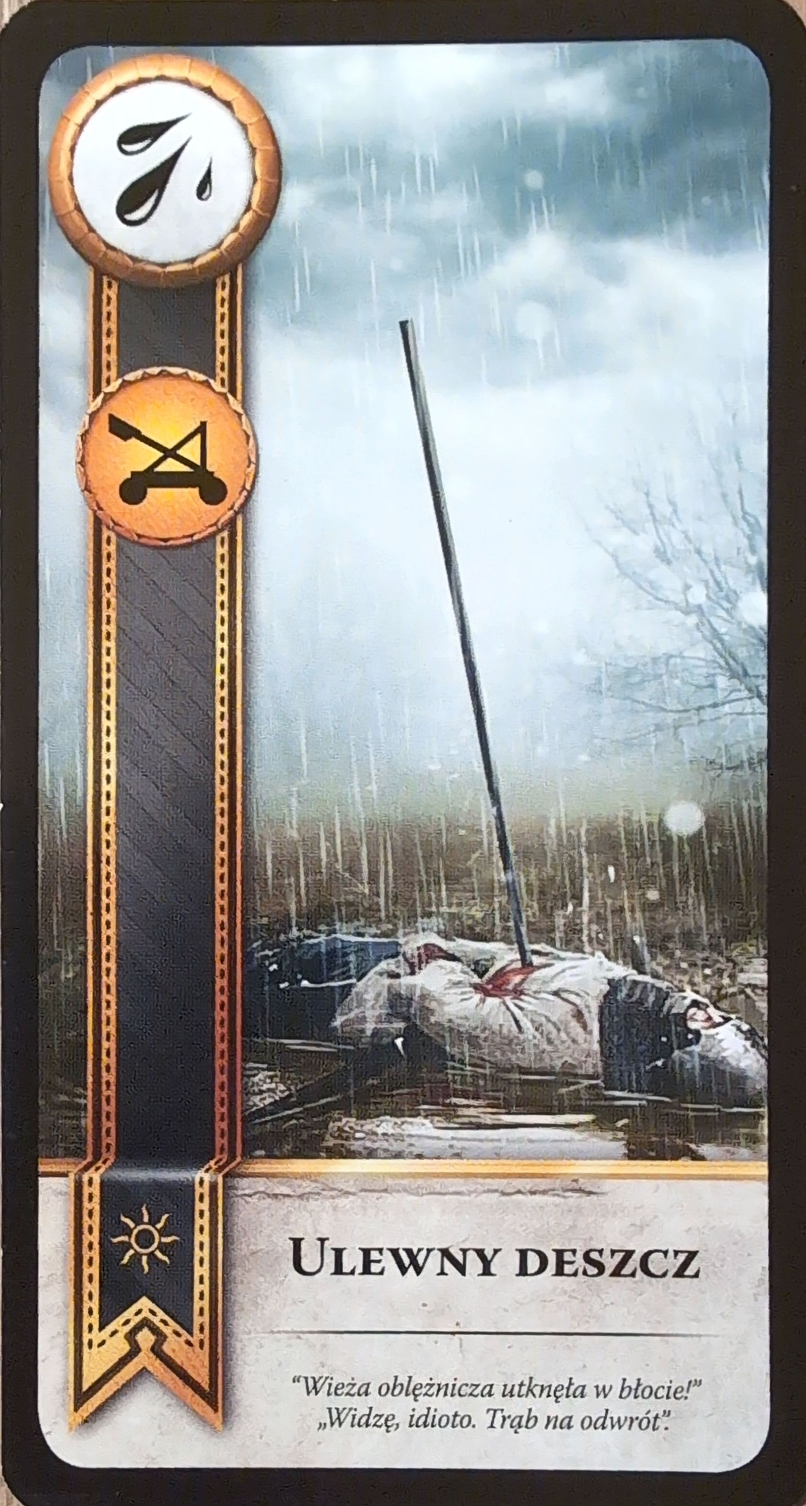deszcz: (49, 52, 288, 289)
katapulta: (75, 368, 256, 549)
